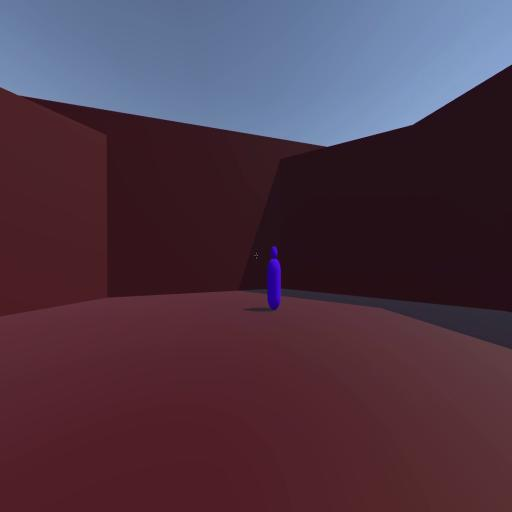Crosshair: (254, 252, 259, 260)
Target: (267, 246, 281, 310)
